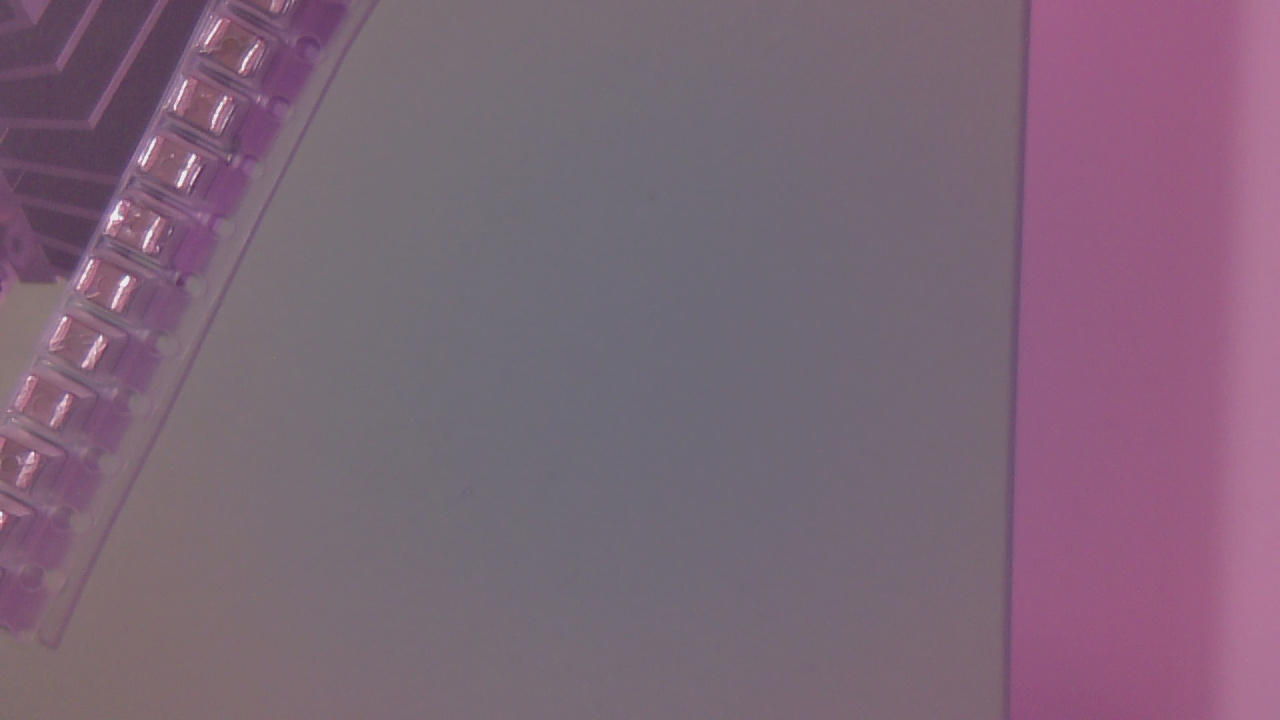Condensator: (207, 18, 271, 80), (146, 139, 211, 198), (179, 78, 240, 137), (107, 202, 174, 255), (19, 381, 75, 436), (52, 324, 116, 371), (79, 265, 143, 311)
